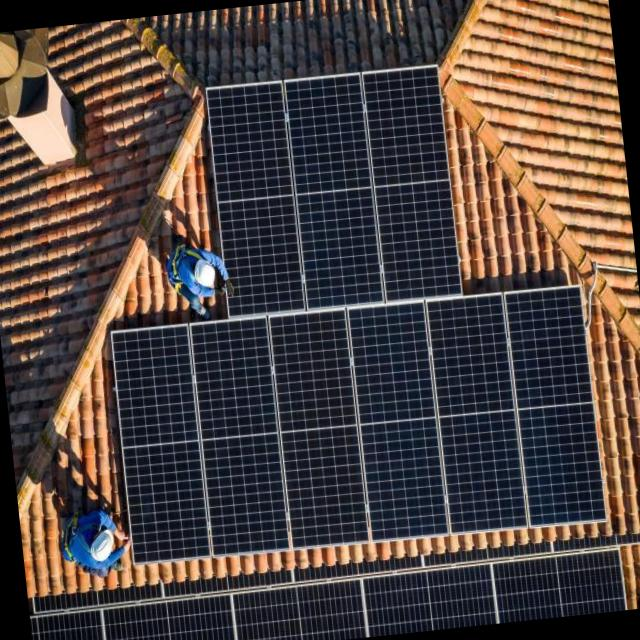no faulty: (199, 80, 296, 204), (266, 309, 358, 436), (348, 301, 438, 427), (359, 419, 454, 537), (109, 322, 200, 445), (282, 424, 370, 547), (187, 320, 275, 442), (294, 188, 382, 309), (502, 286, 588, 408), (223, 192, 307, 316), (516, 401, 600, 524), (286, 73, 371, 192), (364, 66, 448, 186), (429, 296, 513, 414), (127, 443, 211, 560), (440, 412, 520, 530), (200, 438, 284, 550), (374, 180, 454, 296), (498, 554, 616, 622), (376, 574, 492, 635), (234, 586, 359, 640), (111, 600, 224, 640), (30, 622, 95, 640)
